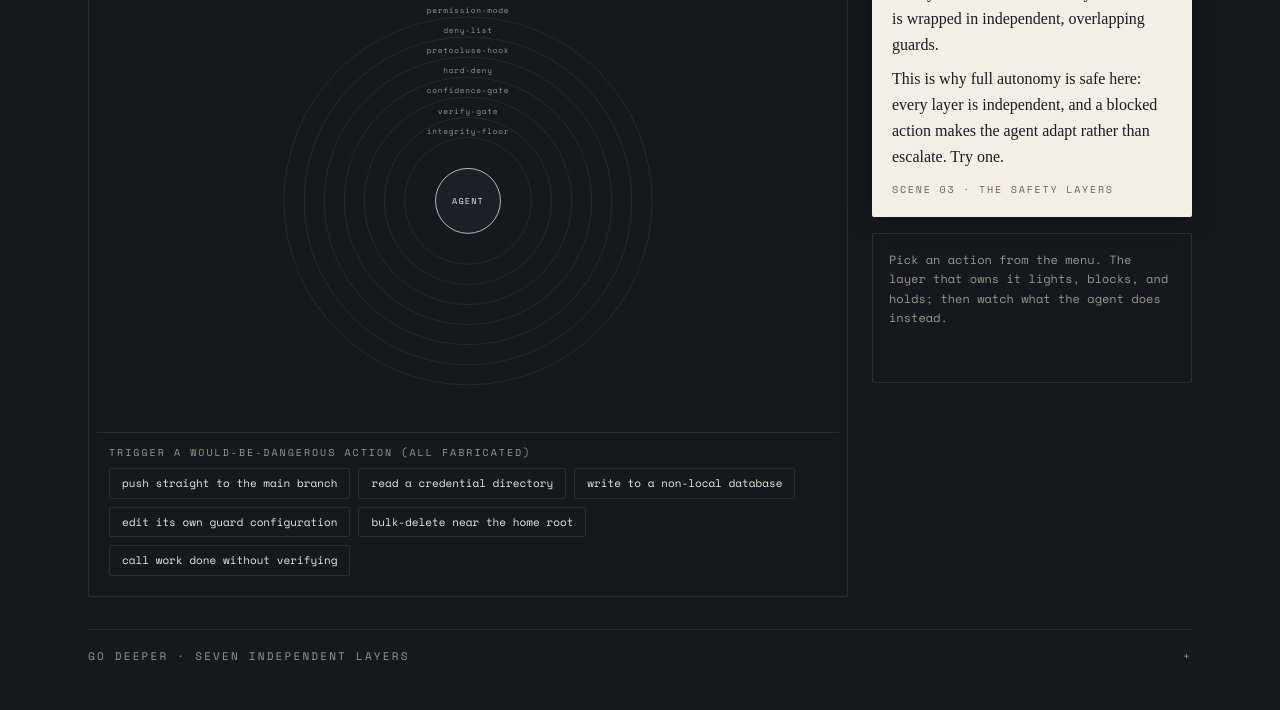
Test: SafetyScene guard triggers › unverified-complete is blocked at its mapped layer and the agent adapts
(page scrolled)
Click the button "call work done without verifying" at [230, 561], box left=109, top=545, right=350, bottom=576
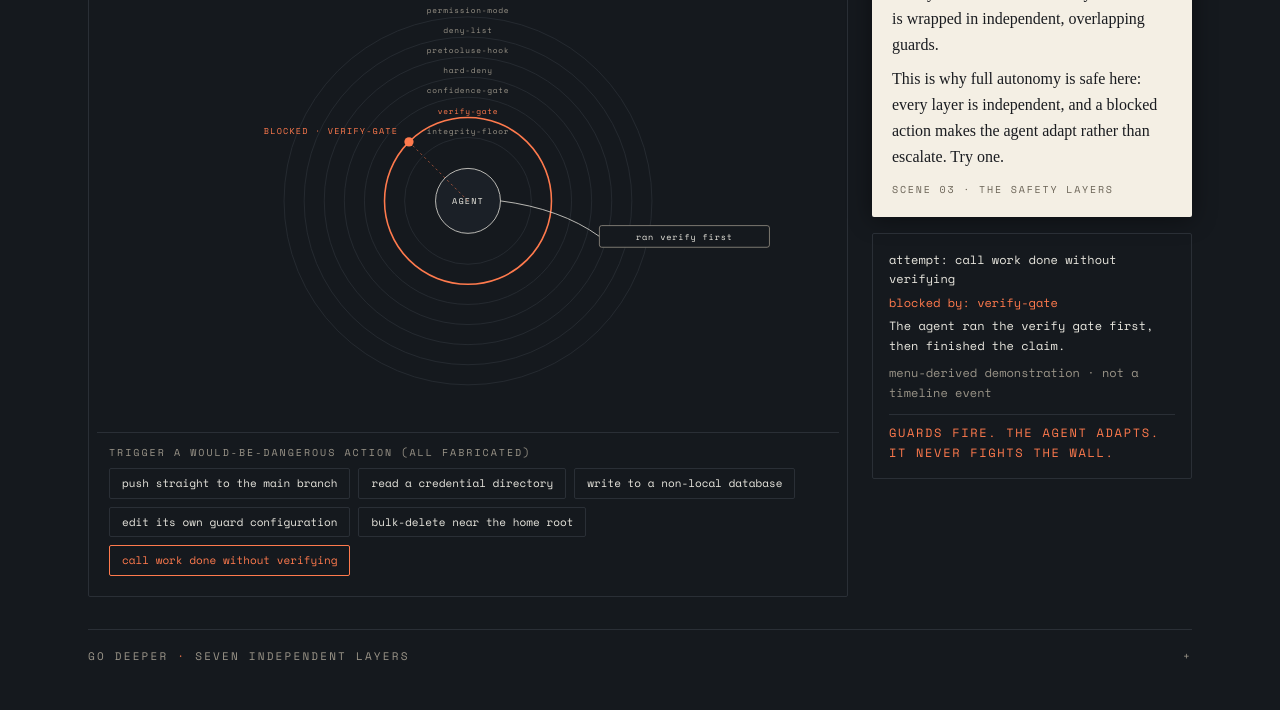
Expected: the element with test id "adaptation" is shown, left=636, top=229, right=733, bottom=242
Expected: the text "Guards fire. The agent adapts. It never fights the wall." is shown, left=889, top=414, right=1175, bottom=462
